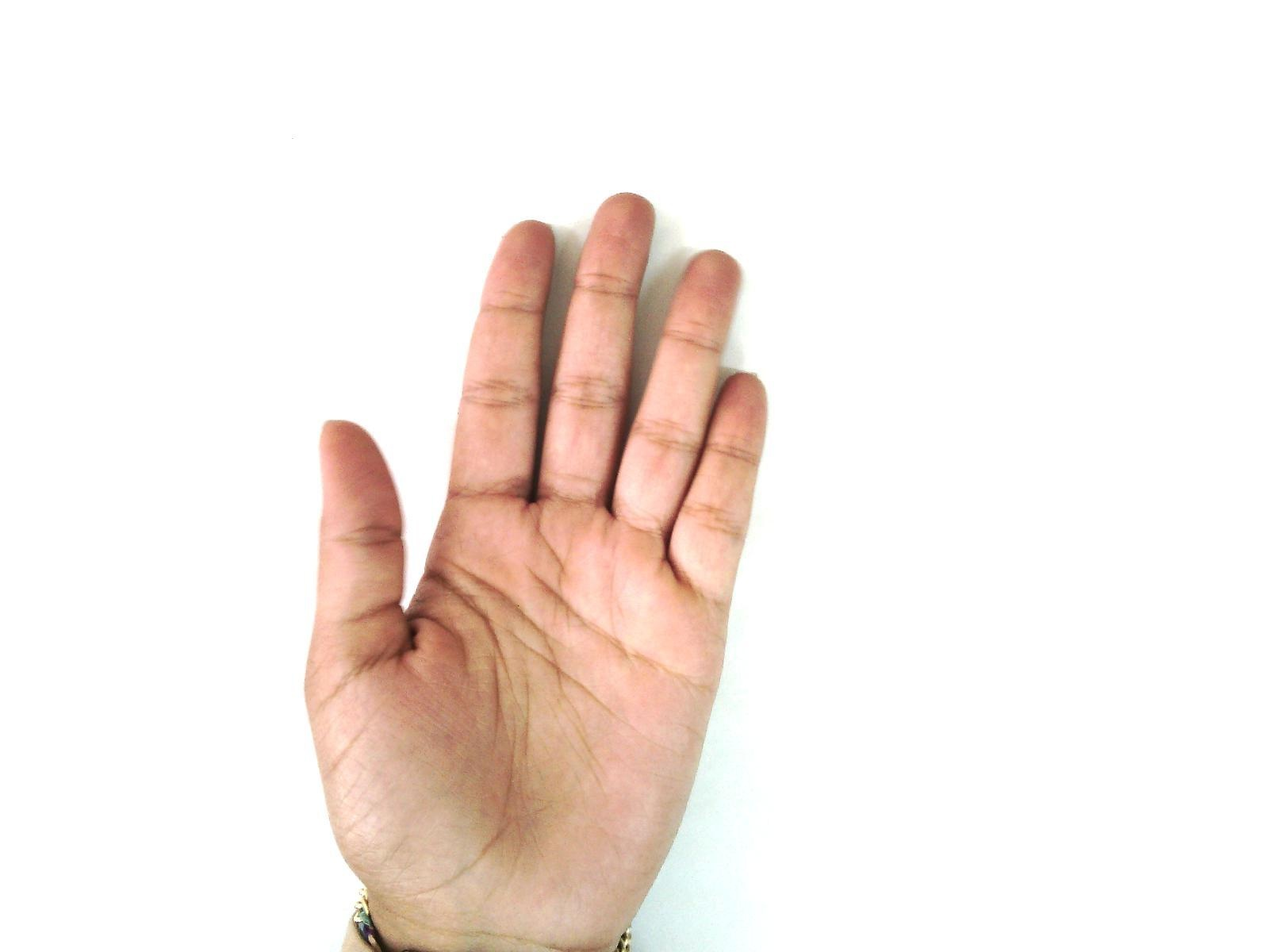open_palm: (302, 191, 772, 950)
